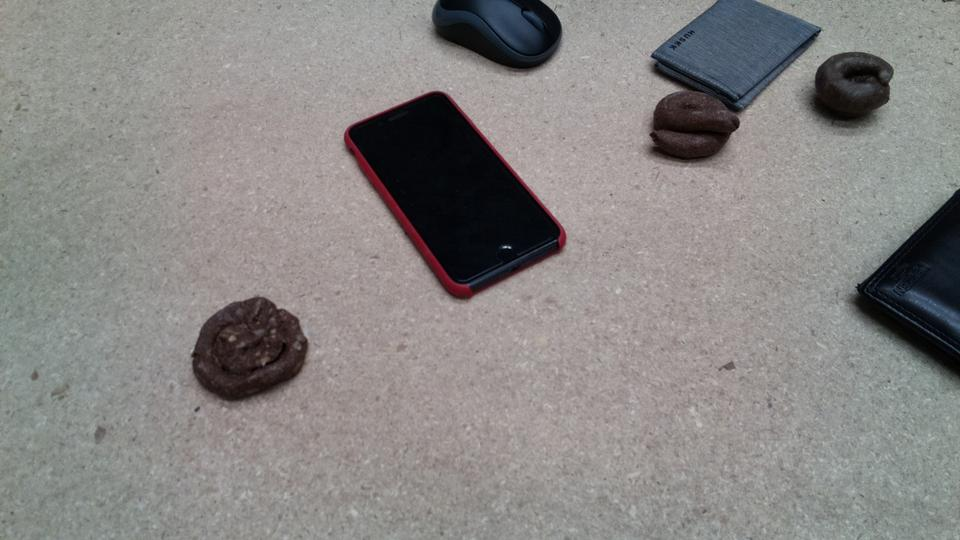poop: (188, 295, 310, 404), (651, 89, 741, 163), (813, 50, 897, 121)
